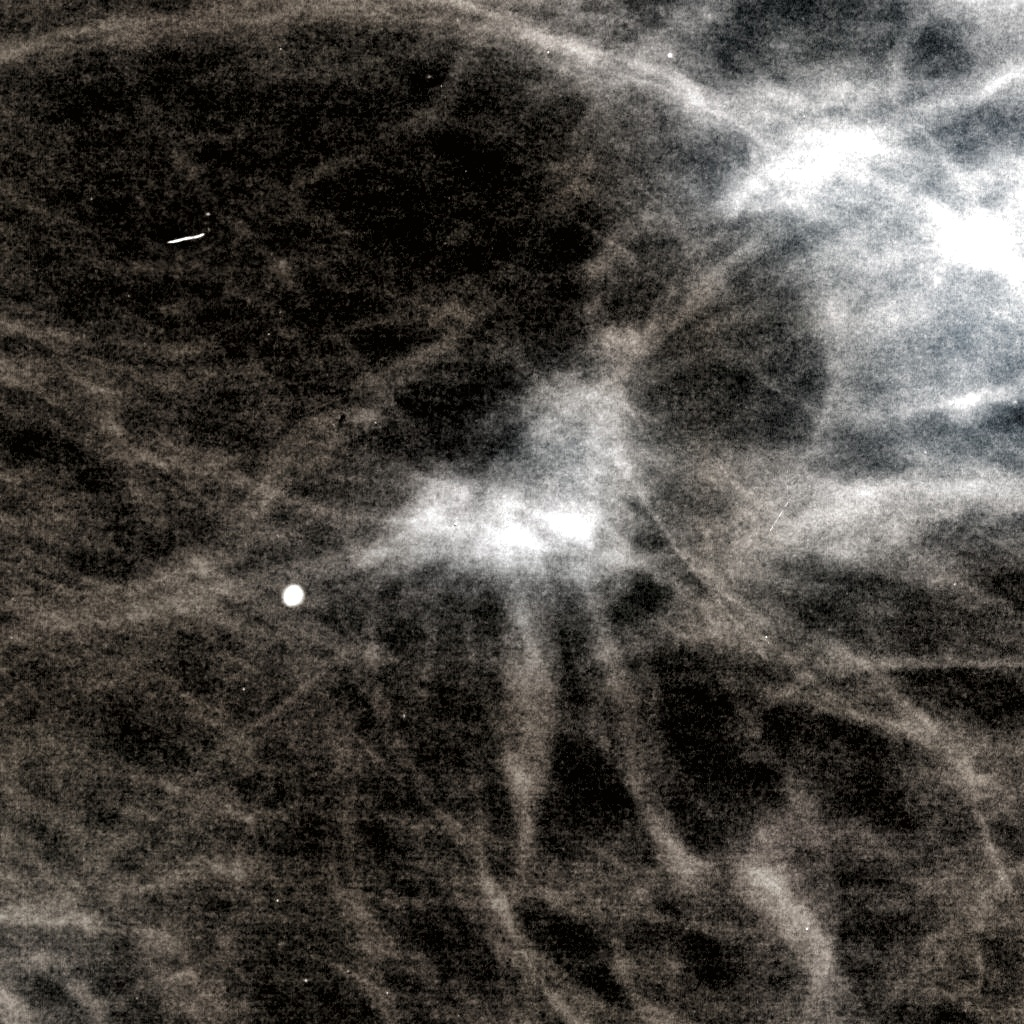tumor: (347, 327, 677, 697)
